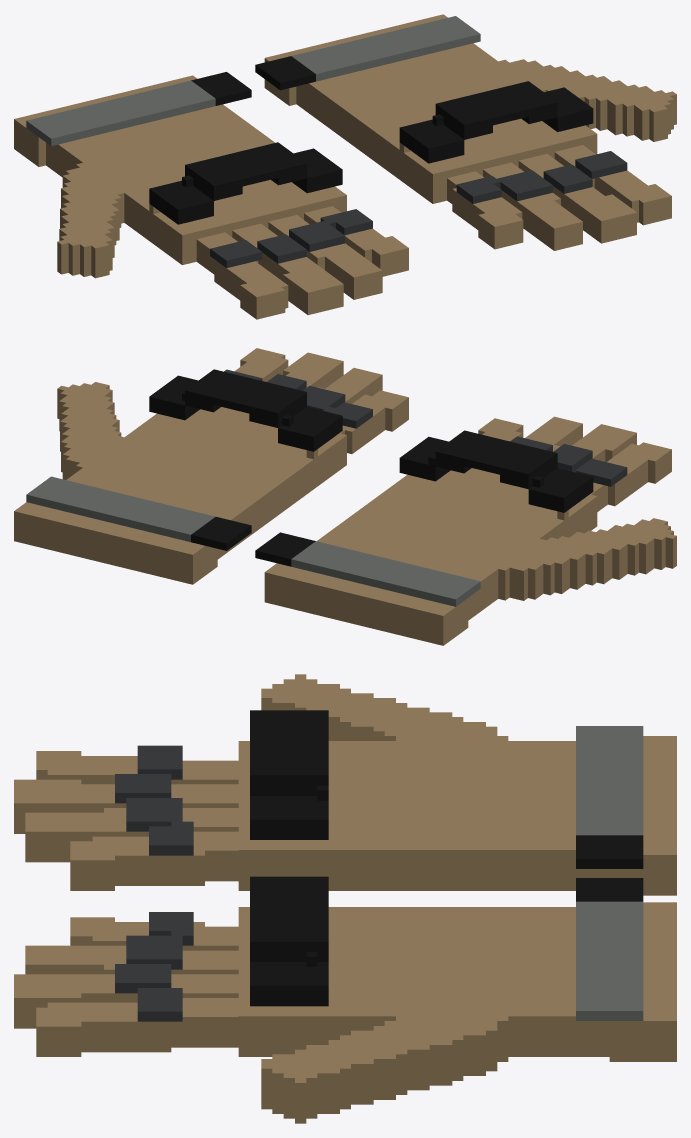
The model's file is gloves_tactical.glb.
The picture shows the model from 3 angles, top to bottom: view 1: azimuth 30°, elevation 25°; view 2: azimuth 150°, elevation 25°; view 3: azimuth 270°, elevation 25°; orthographic projection. The views are drawn at different scales.
Visible parts, largest first — view 1: gloves_tactical:compound; view 2: gloves_tactical:compound; view 3: gloves_tactical:compound.
Boxes of the visible parts, bbox=[...] form: gloves_tactical:compound: bbox=[14, 14, 676, 319]; gloves_tactical:compound: bbox=[14, 348, 676, 645]; gloves_tactical:compound: bbox=[14, 674, 676, 1123].
Bounding box in the file's own units: 0.344 × 0.036 × 0.236.
